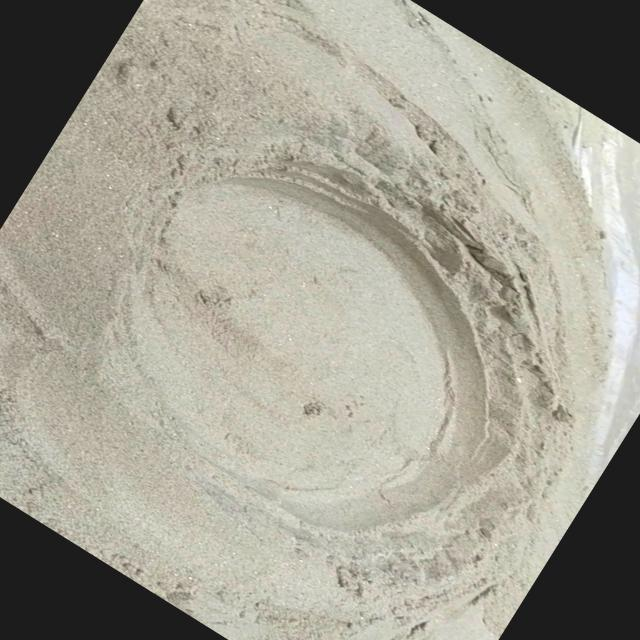C40: (136, 173, 498, 531)
